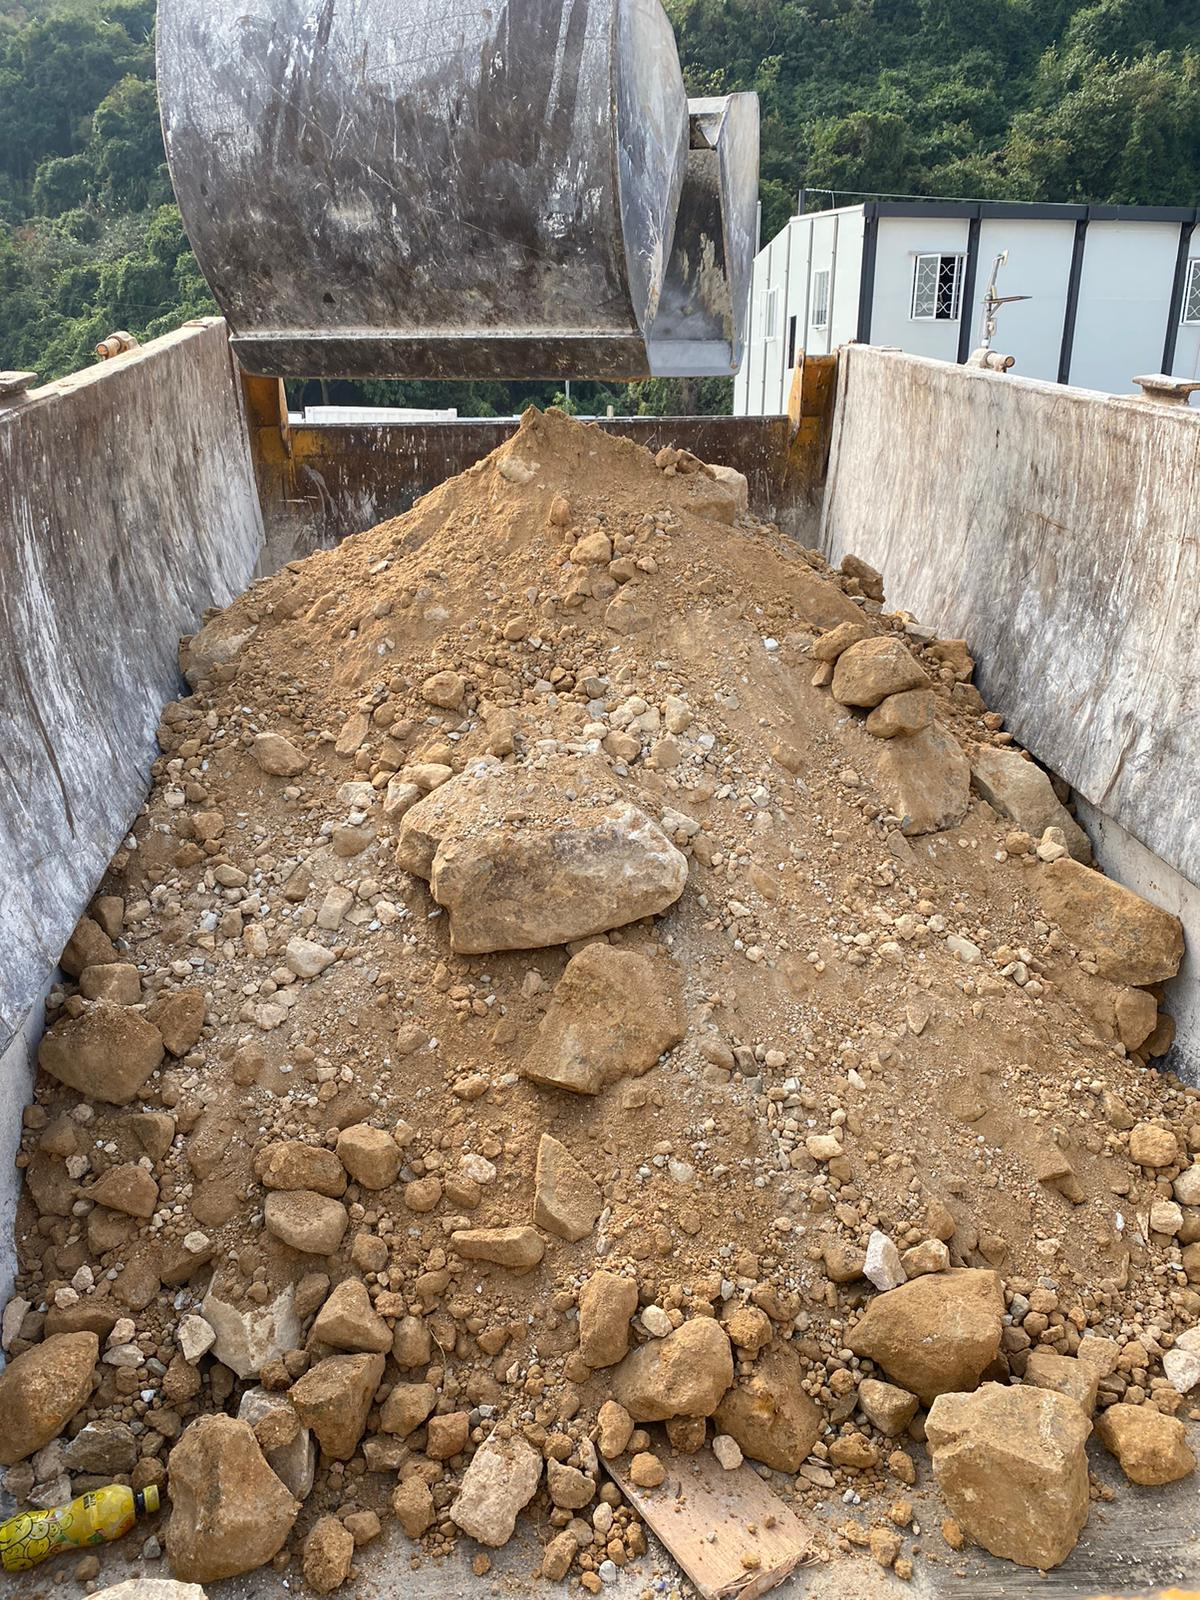dry: (50, 420, 1172, 1450)
